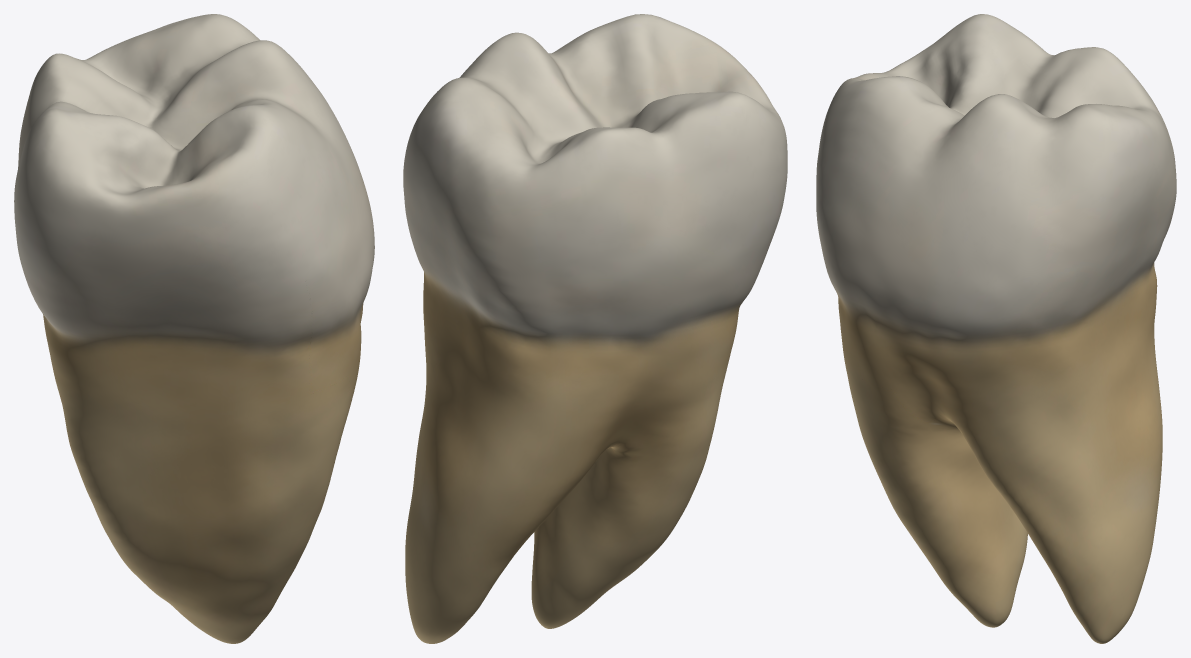
File: mandibular_first_molar.glb
3 renders of one model, left to right at view 1: azimuth 30°, elevation 25°; view 2: azimuth 150°, elevation 25°; view 3: azimuth 270°, elevation 25°, orthographic. The views are drawn at different scales.
Visible parts, largest first — view 1: Object_2; view 2: Object_2; view 3: Object_2.
Part boxes in pixels (box(x1,y1,x2,y2)): Object_2: box(14, 14, 374, 643); Object_2: box(403, 14, 787, 643); Object_2: box(816, 14, 1176, 643).
Size of the model in its own units: 1.1 by 1.83 by 1.11.
1 material, 1 textured.
